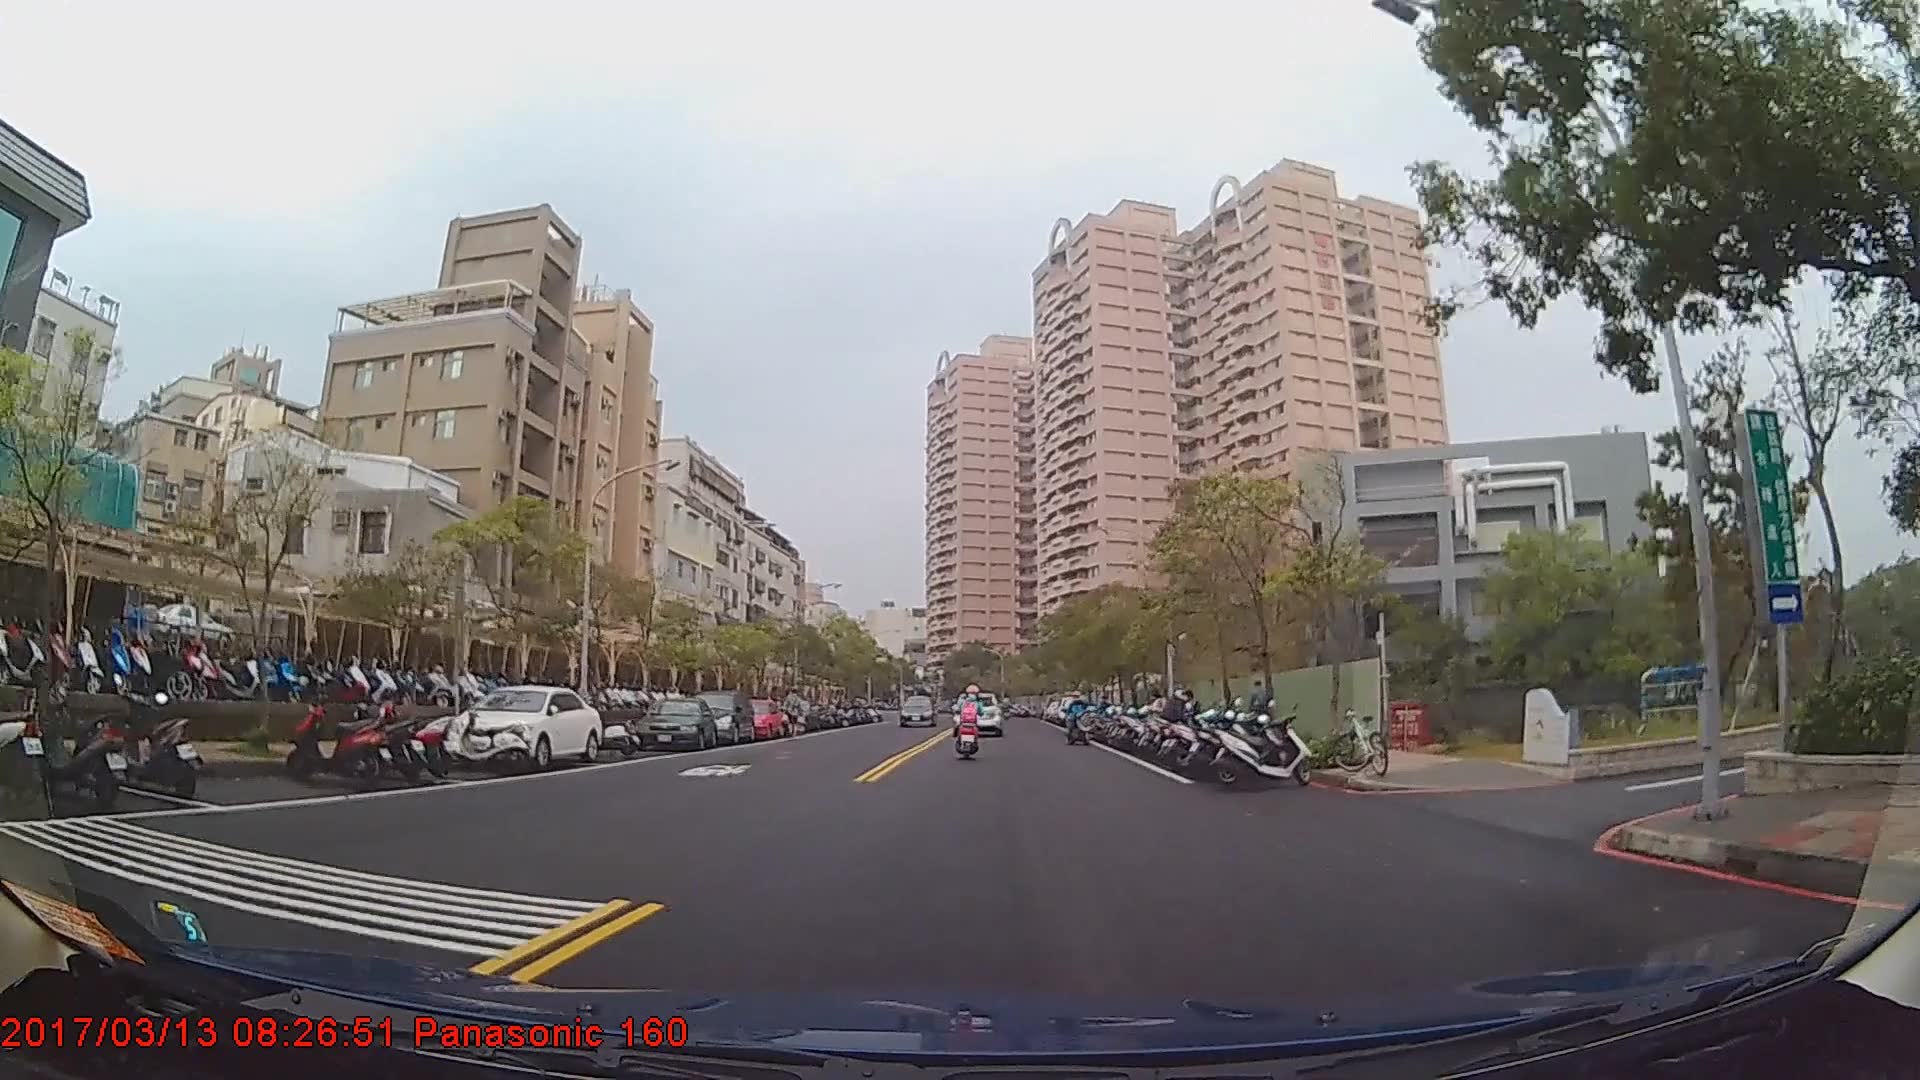pedestrian: (1163, 685, 1197, 752), (783, 687, 810, 743), (1247, 679, 1274, 734)
rider: (956, 685, 986, 756), (1066, 687, 1091, 743)
vehicle: (447, 683, 601, 769), (634, 695, 716, 751), (688, 688, 753, 743), (951, 685, 1003, 733), (735, 696, 783, 741), (899, 691, 933, 727)
